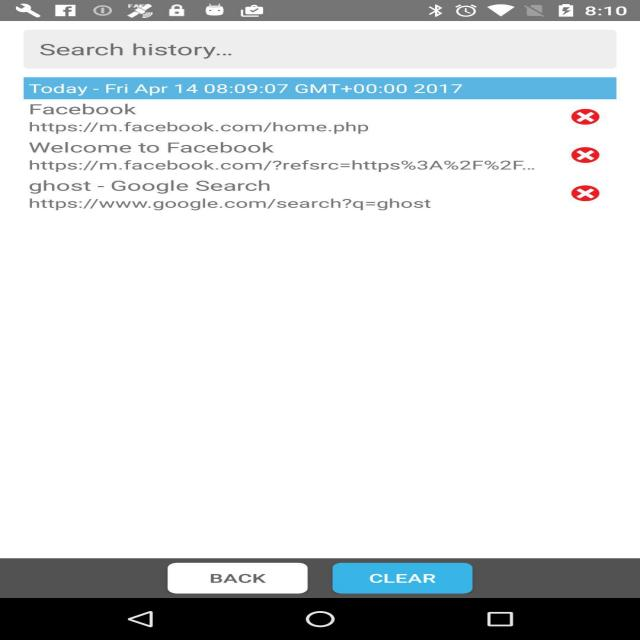button: (163, 560, 484, 599)
icon: (562, 105, 610, 206)
text: (26, 78, 556, 222)
